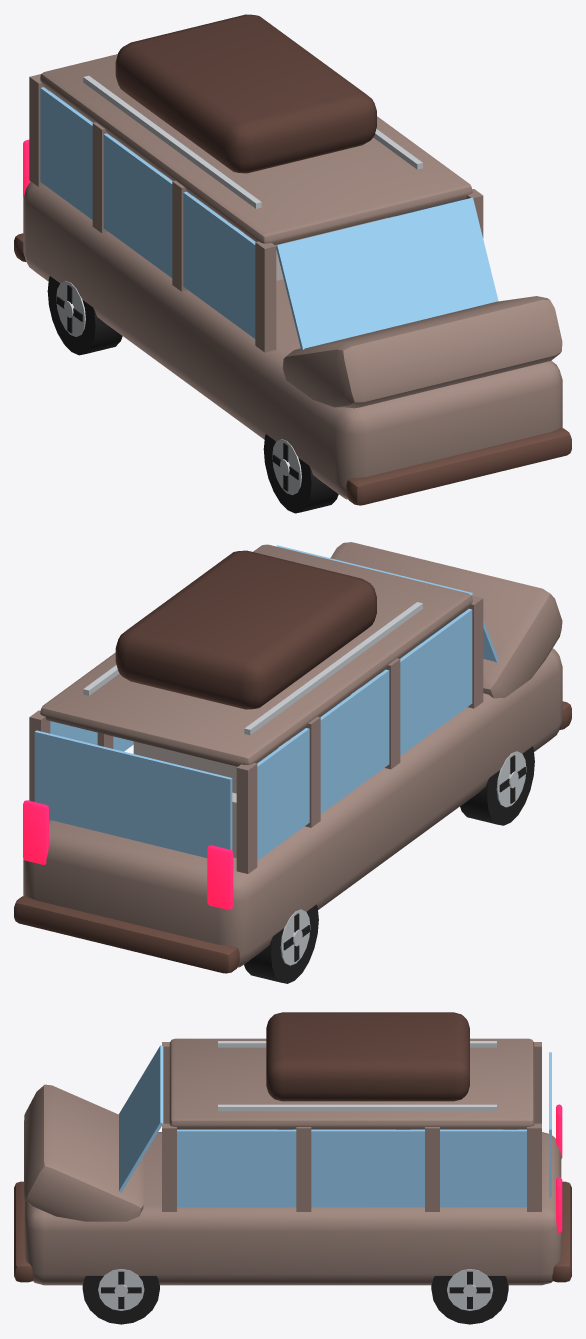
The model's file is journey_minivan.glb.
The picture shows the model from 3 angles, top to bottom: view 1: azimuth 30°, elevation 25°; view 2: azimuth 150°, elevation 25°; view 3: azimuth 270°, elevation 25°; orthographic projection. The views are drawn at different scales.
Parts seen in each view (by area): view 1: Minivan_body, Wheel_FR, Wheel_RR; view 2: Minivan_body, Wheel_FR, Wheel_RR; view 3: Minivan_body, Wheel_RL, Wheel_FL.
Part boxes in pixels (<box>): Minivan_body: <box>14,14,571,505</box>; Wheel_FR: <box>263,434,338,513</box>; Wheel_RR: <box>47,276,122,355</box>; Minivan_body: <box>14,542,571,973</box>; Wheel_FR: <box>460,746,534,825</box>; Wheel_RR: <box>244,904,318,983</box>; Minivan_body: <box>14,1012,571,1285</box>; Wheel_RL: <box>431,1269,508,1324</box>; Wheel_FL: <box>82,1269,159,1324</box>.
Bounding box in the file's own units: 2 × 2.51 × 5.2.
